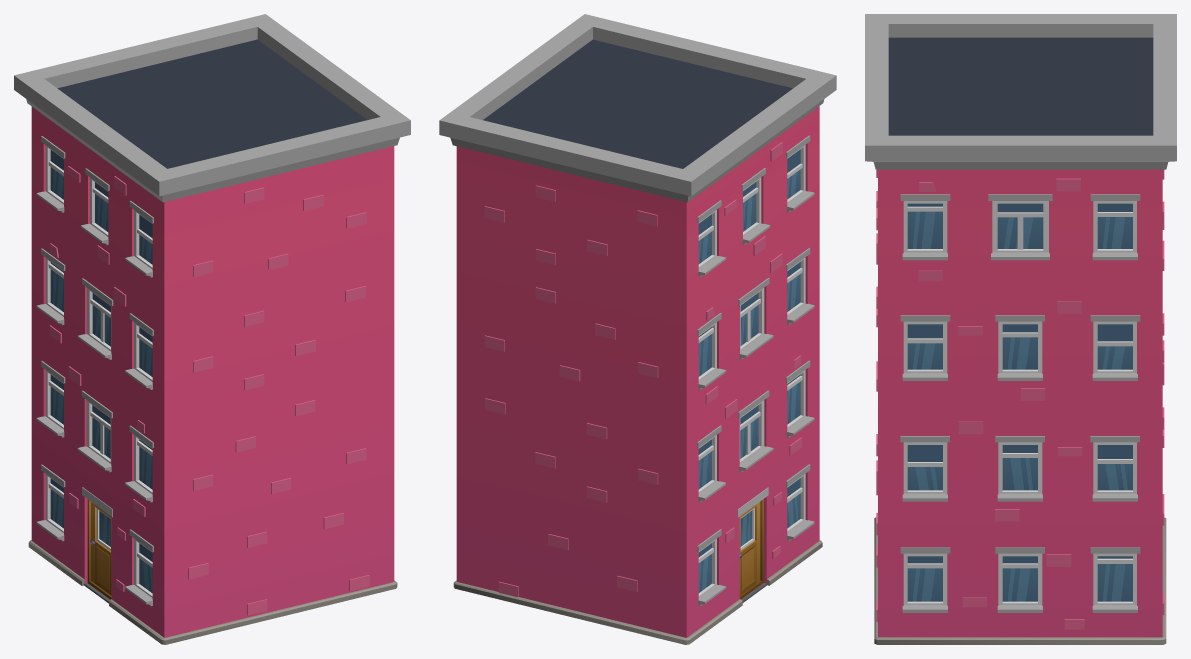
The model's file is Building_2_5_B.fbx.
The picture shows the model from 3 angles, left to right: view 1: azimuth 30°, elevation 25°; view 2: azimuth 150°, elevation 25°; view 3: azimuth 270°, elevation 25°; orthographic projection. The views are drawn at different scales.
Visible parts, largest first — view 1: Building_2_5_B; view 2: Building_2_5_B; view 3: Building_2_5_B.
Part boxes in pixels (x1,y1,x2,y2): Building_2_5_B: (14, 14, 410, 644); Building_2_5_B: (439, 14, 836, 644); Building_2_5_B: (865, 14, 1176, 644).
Bounding box in the file's own units: 620 × 1105 × 620.
